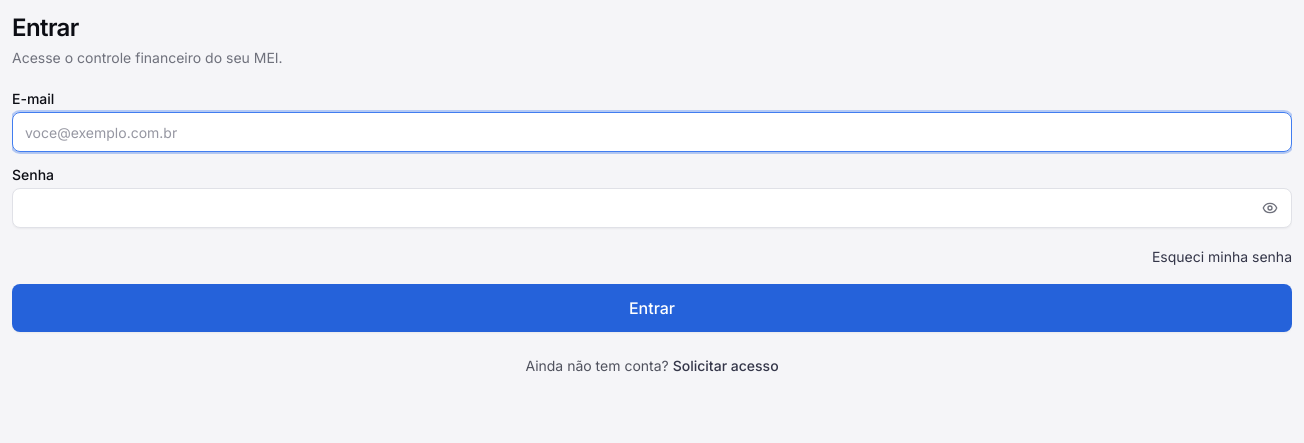
Test: LoginPage › mostra a mensagem do servidor em credenciais inválidas
In the field labelled "E-mail": (652, 132) [12,112,1292,152], type "maria@exemplo.com.br"
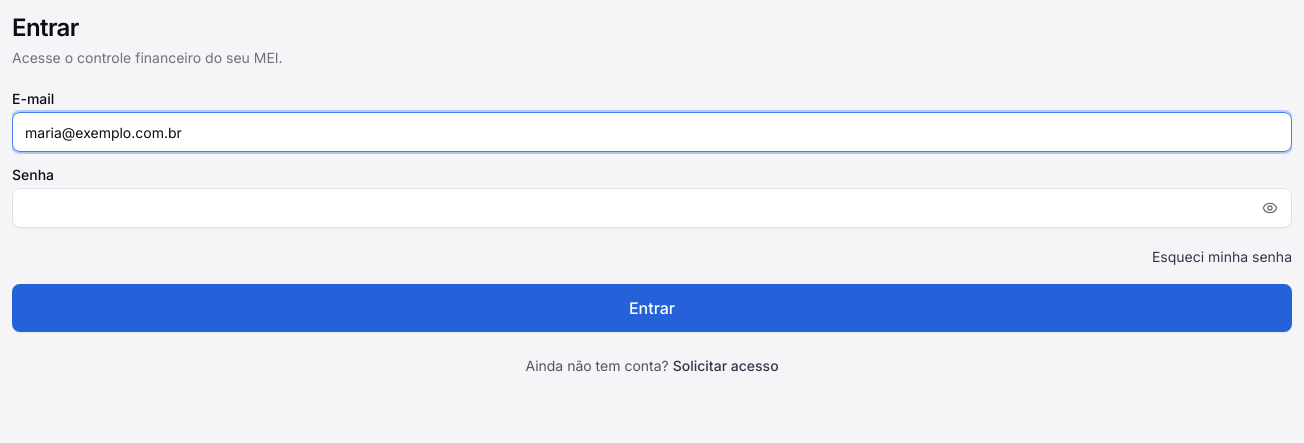
In the password field labelled "Senha": (652, 208) [12,188,1292,228], type "errada123"
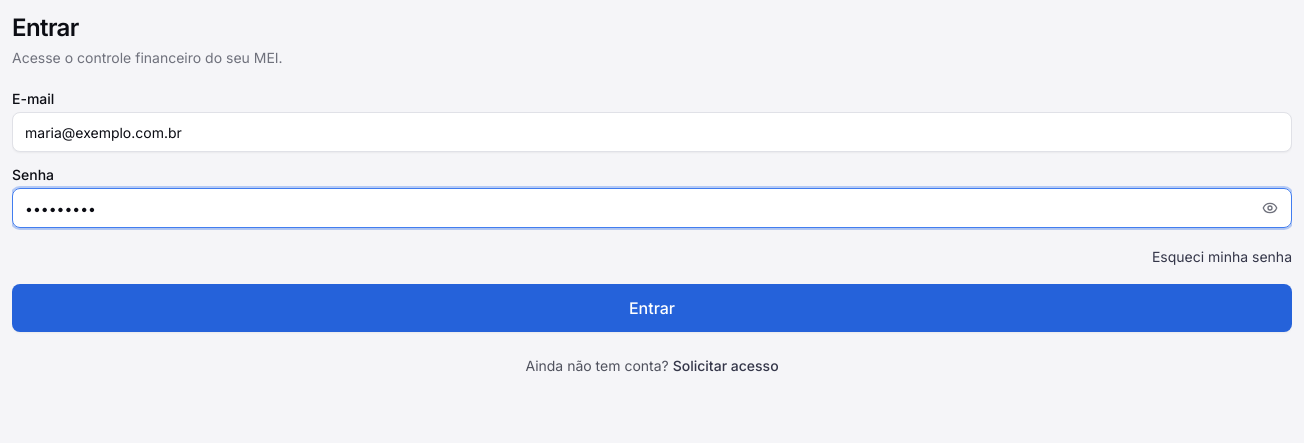
Click the button "Entrar": (652, 308) [12,284,1292,332]
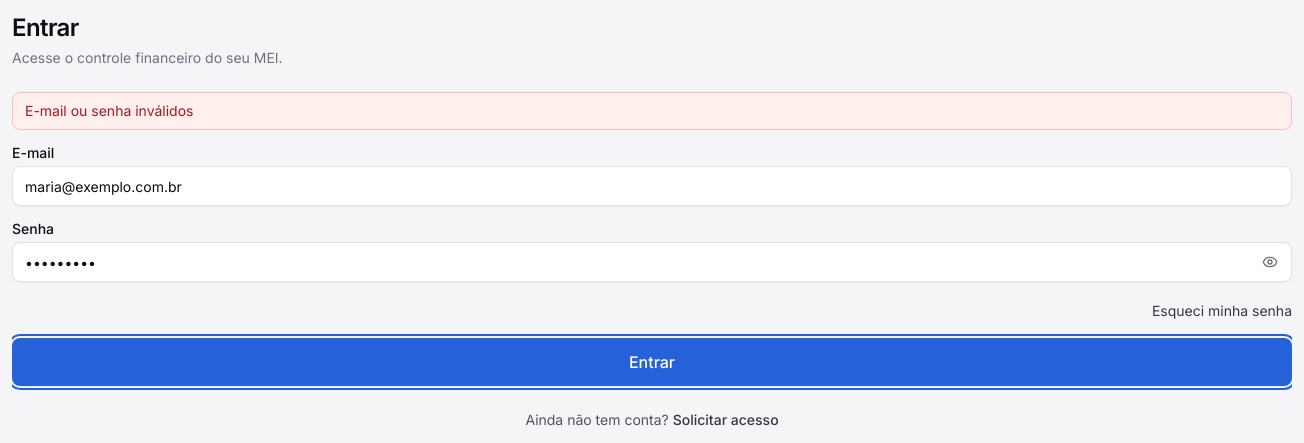
Now the message reads "E-mail ou senha inválidos", box [25,102,194,119]
